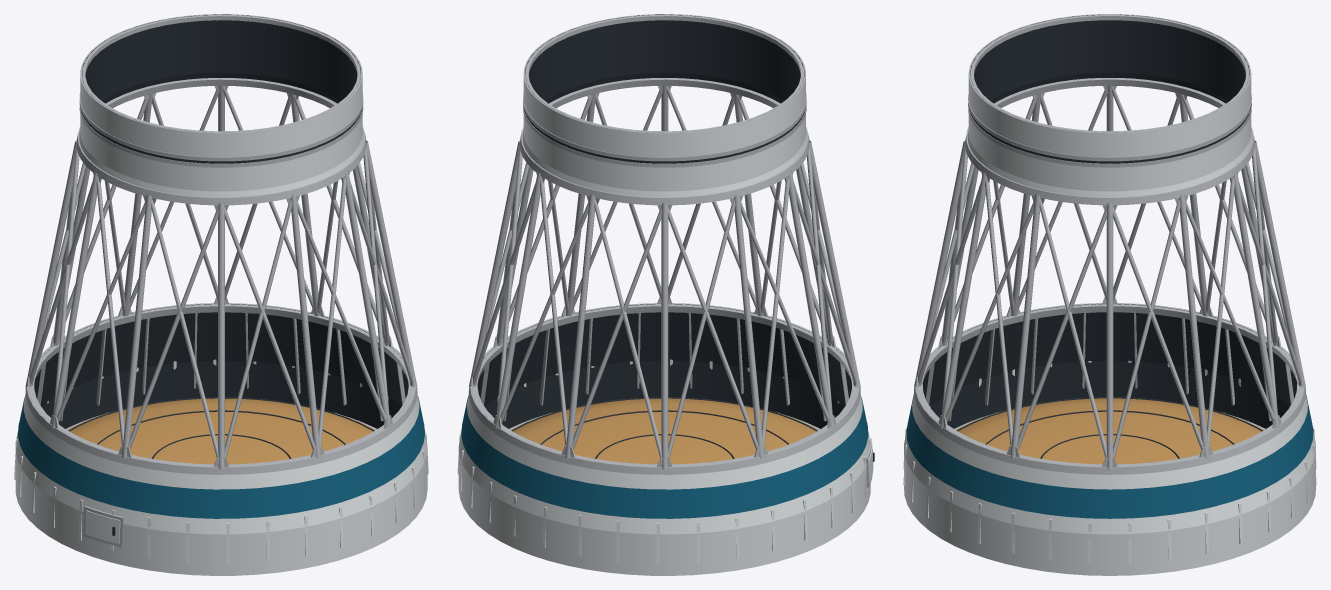
The model's file is interstage_hot_staging_d54_to_d37.fbx.
3 renders of one model, left to right at view 1: azimuth 30°, elevation 25°; view 2: azimuth 150°, elevation 25°; view 3: azimuth 270°, elevation 25°, orthographic.
Visible parts, largest first — view 1: interstage_hot_staging_d54_to_d37_LOD0; view 2: interstage_hot_staging_d54_to_d37_LOD0; view 3: interstage_hot_staging_d54_to_d37_LOD0.
Part boxes in pixels (box(x1,y1,x2,y2)): interstage_hot_staging_d54_to_d37_LOD0: box(14, 14, 428, 575); interstage_hot_staging_d54_to_d37_LOD0: box(457, 14, 874, 575); interstage_hot_staging_d54_to_d37_LOD0: box(903, 14, 1316, 575).
Size of what is drawn, in the model's own units: 5.41 by 6 by 5.41.
